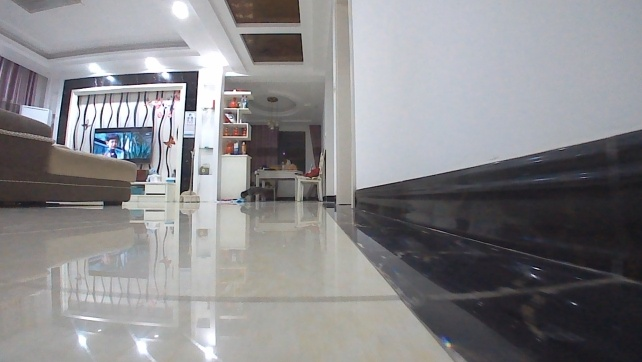sofa1: (0, 103, 142, 210)
